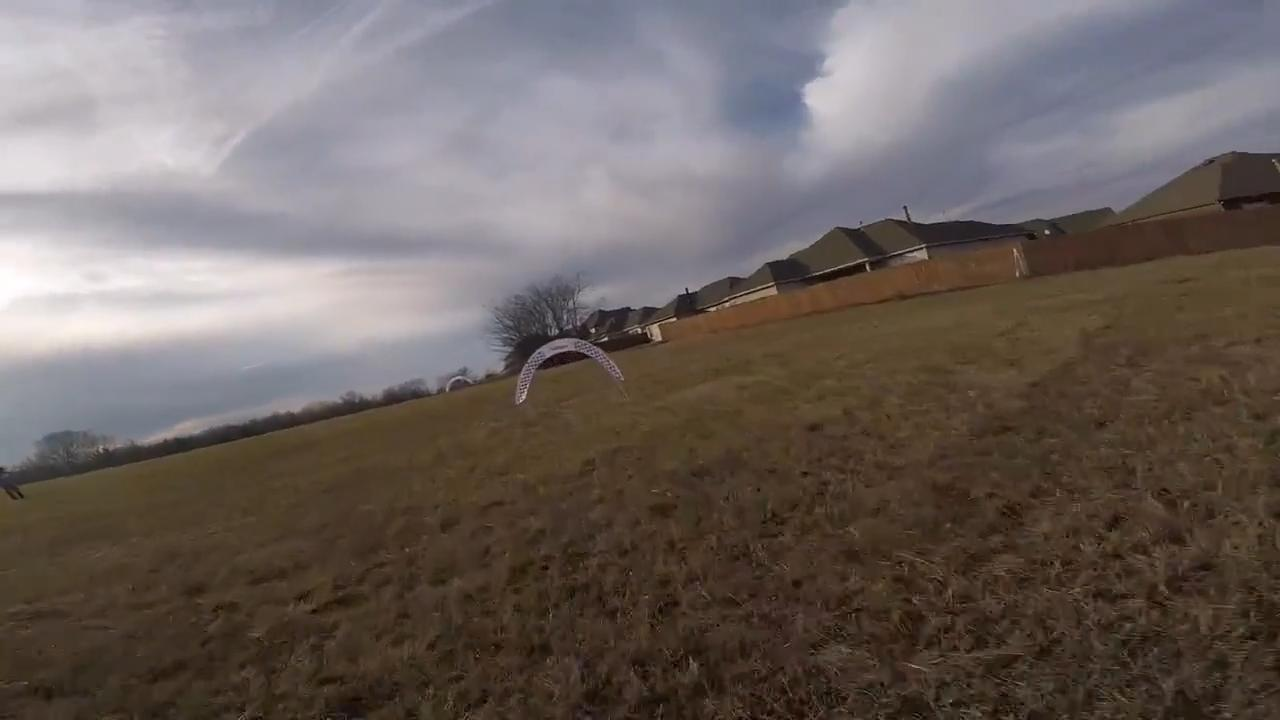gate: (513, 337, 625, 411)
